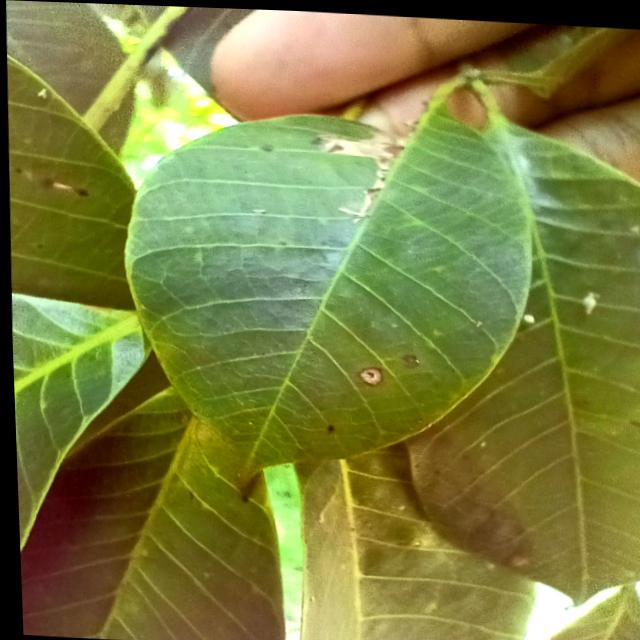Colletotrichum: (355, 362, 381, 383)
